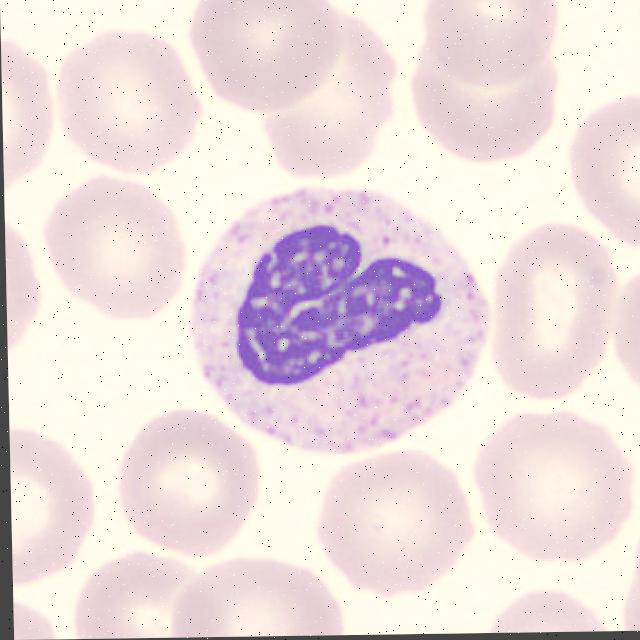neutrophil: (181, 183, 501, 461)
rbc: (472, 414, 629, 552), (108, 414, 249, 563), (50, 33, 198, 172), (315, 464, 476, 590), (484, 239, 620, 388), (261, 26, 392, 178), (43, 183, 175, 321), (192, 0, 345, 108), (411, 56, 558, 157), (177, 560, 351, 638), (10, 430, 97, 573), (80, 557, 226, 639), (426, 0, 564, 85), (570, 99, 640, 254), (1, 27, 59, 191), (485, 588, 613, 633), (5, 220, 42, 350), (612, 256, 640, 410), (13, 587, 62, 640), (627, 507, 640, 631), (613, 582, 640, 631)
